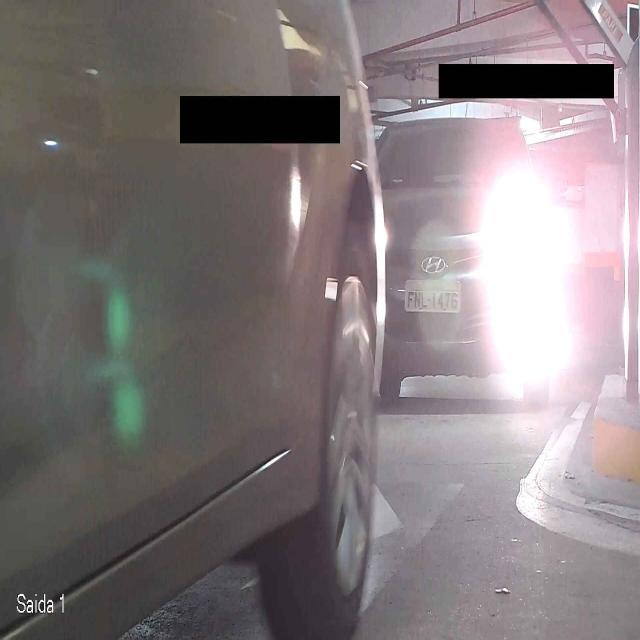old_plate: (404, 278, 462, 314)
